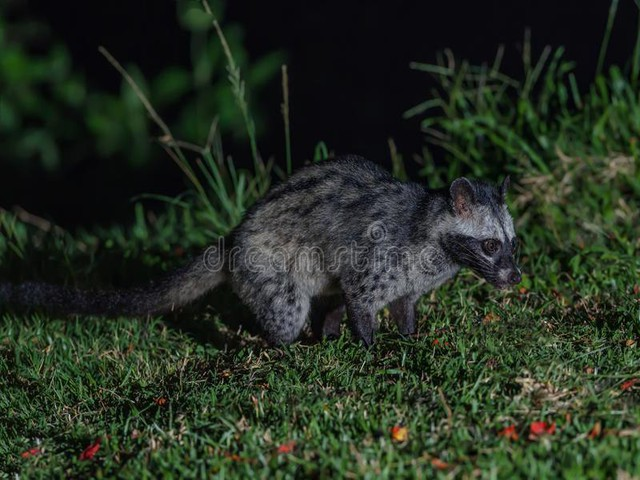civet: (5, 150, 524, 352)
